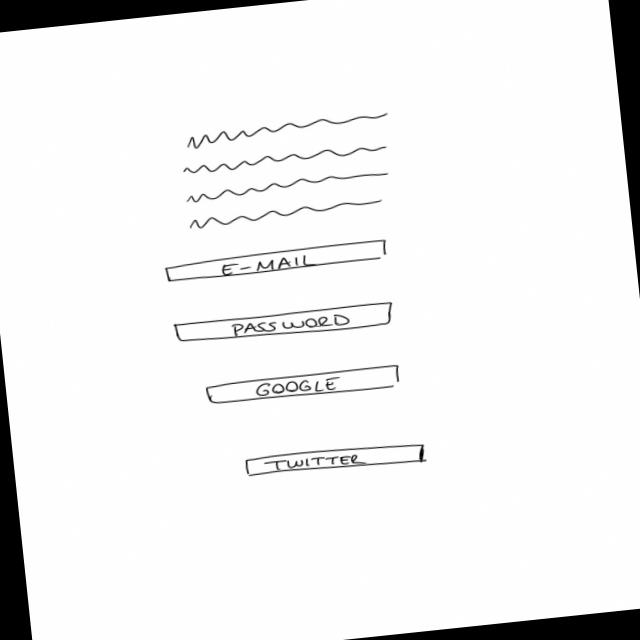button: (172, 299, 397, 349), (163, 238, 391, 287), (203, 363, 405, 408), (242, 437, 430, 482)
textbox: (173, 110, 401, 236)
